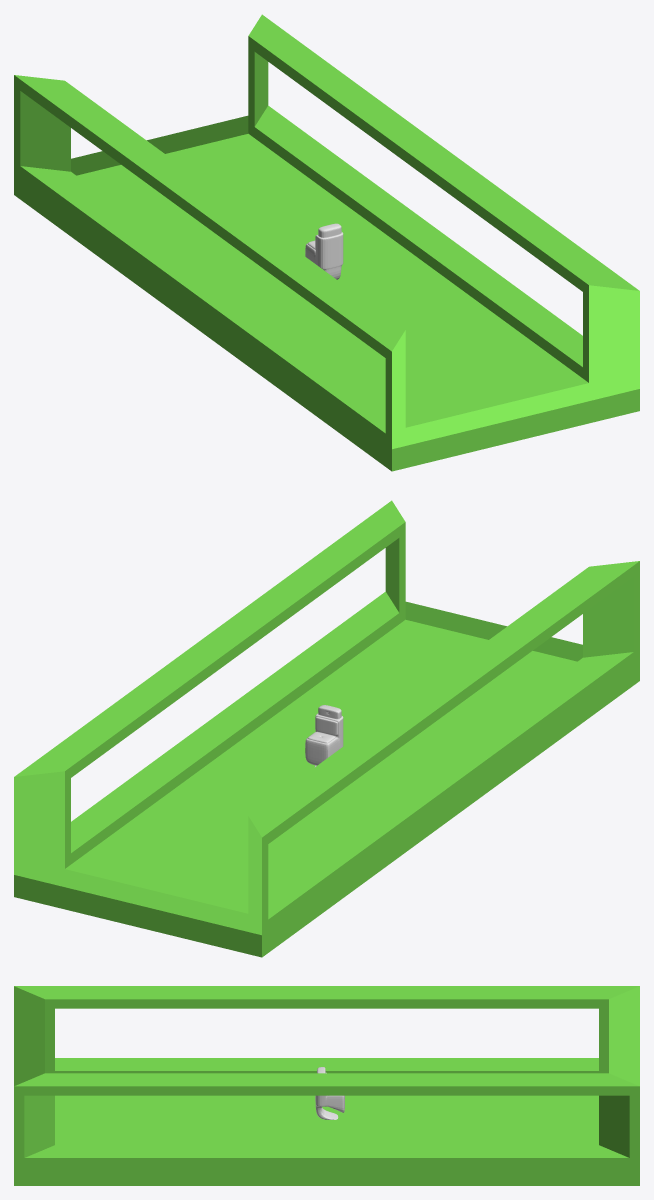
Rendered from train.gltf.
3 renders of one model, top to bottom at view 1: azimuth 30°, elevation 25°; view 2: azimuth 150°, elevation 25°; view 3: azimuth 270°, elevation 25°, orthographic. The views are drawn at different scales.
Parts seen in each view (by area): view 1: train, Chair; view 2: train, Chair; view 3: train, Chair.
Part boxes in pixels (x1,y1,x2,y2): train: (14, 14, 639, 471); Chair: (305, 223, 343, 279); train: (14, 500, 639, 957); Chair: (305, 705, 343, 767); train: (14, 986, 639, 1185); Chair: (315, 1067, 344, 1119).
Size of the model in its own units: 7.07 by 3.27 by 18.65.
